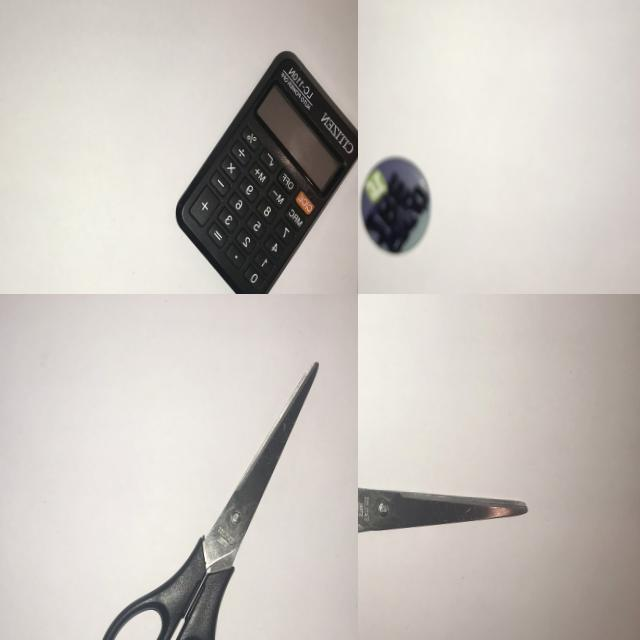calculator: (167, 41, 358, 294)
icon: (358, 150, 436, 264)
scissors: (85, 342, 326, 640), (358, 422, 536, 617)
